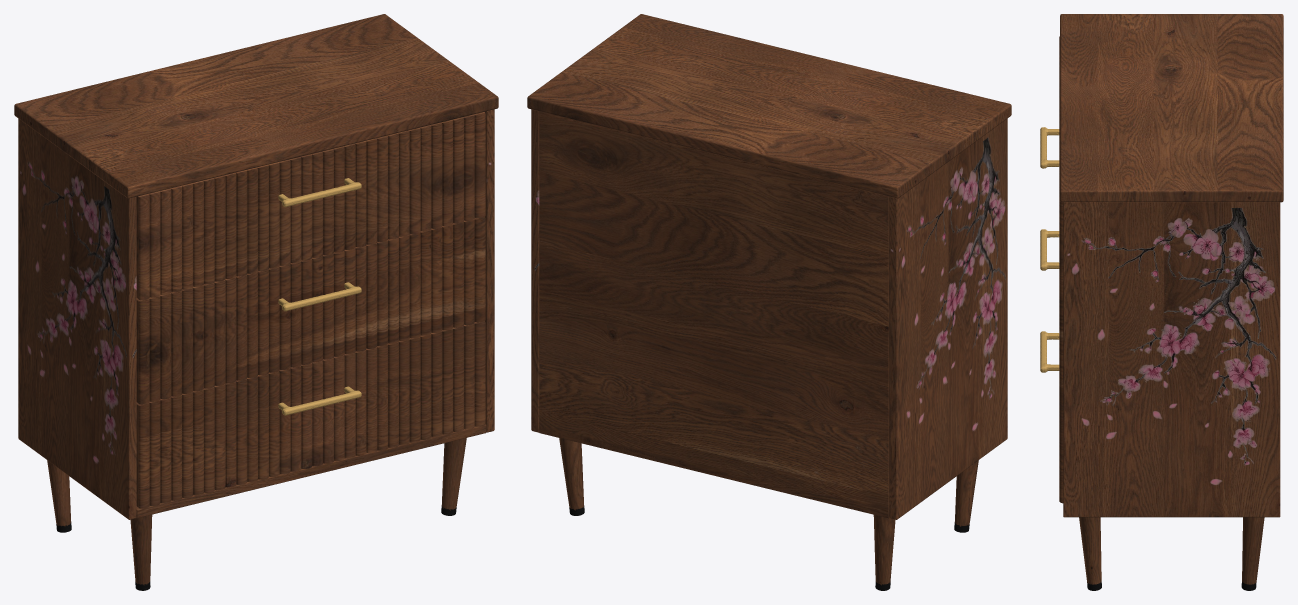
Rendered from comoda_fumado.glb.
The picture shows the model from 3 angles, left to right: view 1: azimuth 30°, elevation 25°; view 2: azimuth 150°, elevation 25°; view 3: azimuth 270°, elevation 25°; orthographic projection. The views are drawn at different scales.
Parts seen in each view (by area): view 1: tampo, lateral_esq, frente_ripado_3, frente_ripado_2, frente_ripado_1, lateral_dir, fundo, pe_1_1, frente_tabua_3, pe_-1_1, pe_-1_-1, frente_tabua_2 (+4 smaller); view 2: costas, tampo, lateral_esq, lateral_dir, fundo, pe_1_-1, pe_-1_-1, pe_-1_1; view 3: lateral_dir, tampo, pe_1_1, pe_1_-1, frente_ripado_3, frente_ripado_2, frente_ripado_1, puxador_1, puxador_2, puxador_3.
Part boxes in pixels (x1=…): tampo: x1=14, y1=14, x2=498, y2=198; lateral_esq: x1=18, y1=118, x2=136, y2=519; frente_ripado_3: x1=138, y1=113, x2=485, y2=300; frente_ripado_2: x1=138, y1=218, x2=485, y2=404; frente_ripado_1: x1=138, y1=322, x2=485, y2=508; lateral_dir: x1=484, y1=109, x2=494, y2=432; fundo: x1=136, y1=424, x2=486, y2=517; pe_1_1: x1=441, y1=438, x2=466, y2=510; frente_tabua_3: x1=136, y1=112, x2=484, y2=298; pe_-1_1: x1=130, y1=514, x2=152, y2=585; pe_-1_-1: x1=47, y1=460, x2=71, y2=526; frente_tabua_2: x1=136, y1=217, x2=484, y2=403; costas: x1=539, y1=111, x2=889, y2=518; tampo: x1=527, y1=14, x2=1011, y2=198; lateral_esq: x1=889, y1=118, x2=1007, y2=519; lateral_dir: x1=531, y1=109, x2=539, y2=432; fundo: x1=540, y1=426, x2=887, y2=517; pe_1_-1: x1=559, y1=438, x2=583, y2=510; pe_-1_-1: x1=873, y1=515, x2=895, y2=585; pe_-1_1: x1=954, y1=460, x2=978, y2=526; lateral_dir: x1=1063, y1=202, x2=1280, y2=517; tampo: x1=1060, y1=14, x2=1283, y2=202; pe_1_1: x1=1079, y1=517, x2=1101, y2=584; pe_1_-1: x1=1242, y1=517, x2=1264, y2=584; frente_ripado_3: x1=1059, y1=36, x2=1063, y2=298; frente_ripado_2: x1=1059, y1=297, x2=1063, y2=401; frente_ripado_1: x1=1059, y1=400, x2=1063, y2=503; puxador_1: x1=1040, y1=331, x2=1059, y2=372; puxador_2: x1=1040, y1=229, x2=1059, y2=270; puxador_3: x1=1040, y1=127, x2=1059, y2=168.
Bounding box in the file's own units: 0.812 × 0.8807 × 0.47.
5 materials, 2 textured.
